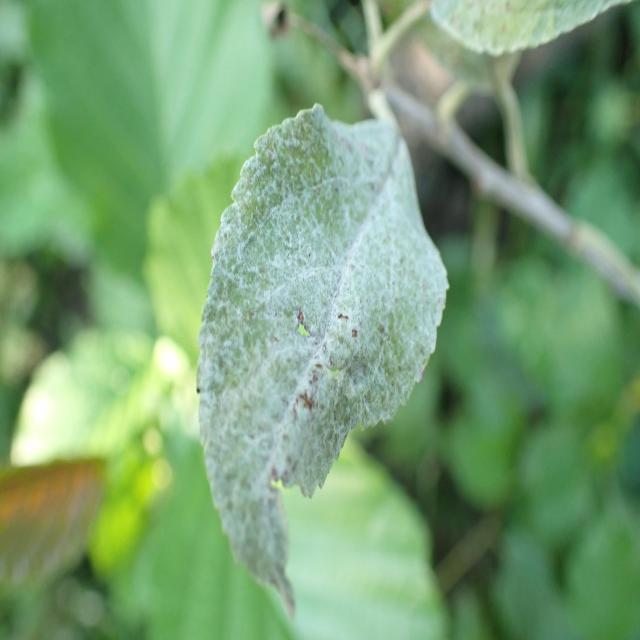Powdery_mildew: (194, 69, 426, 619), (396, 0, 640, 63)
